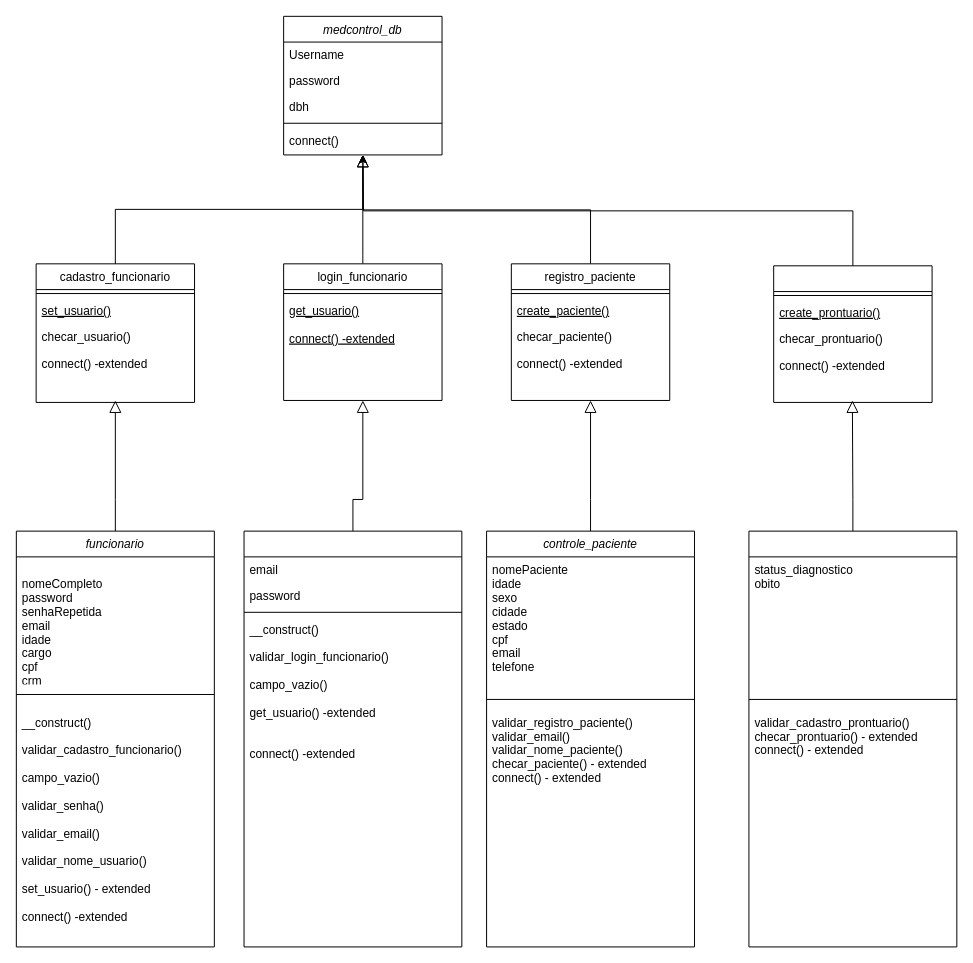
The diagram is 973 pixels wide and 963 high, and some of its shapes have lost their labels. The box of each missing label's shape, as (x1, y1, x2, y2) in pixels:
cadastro_prontuario: (773, 265, 932, 402)
controle_login: (243, 530, 462, 947)
controle_prontuario: (748, 530, 957, 947)
